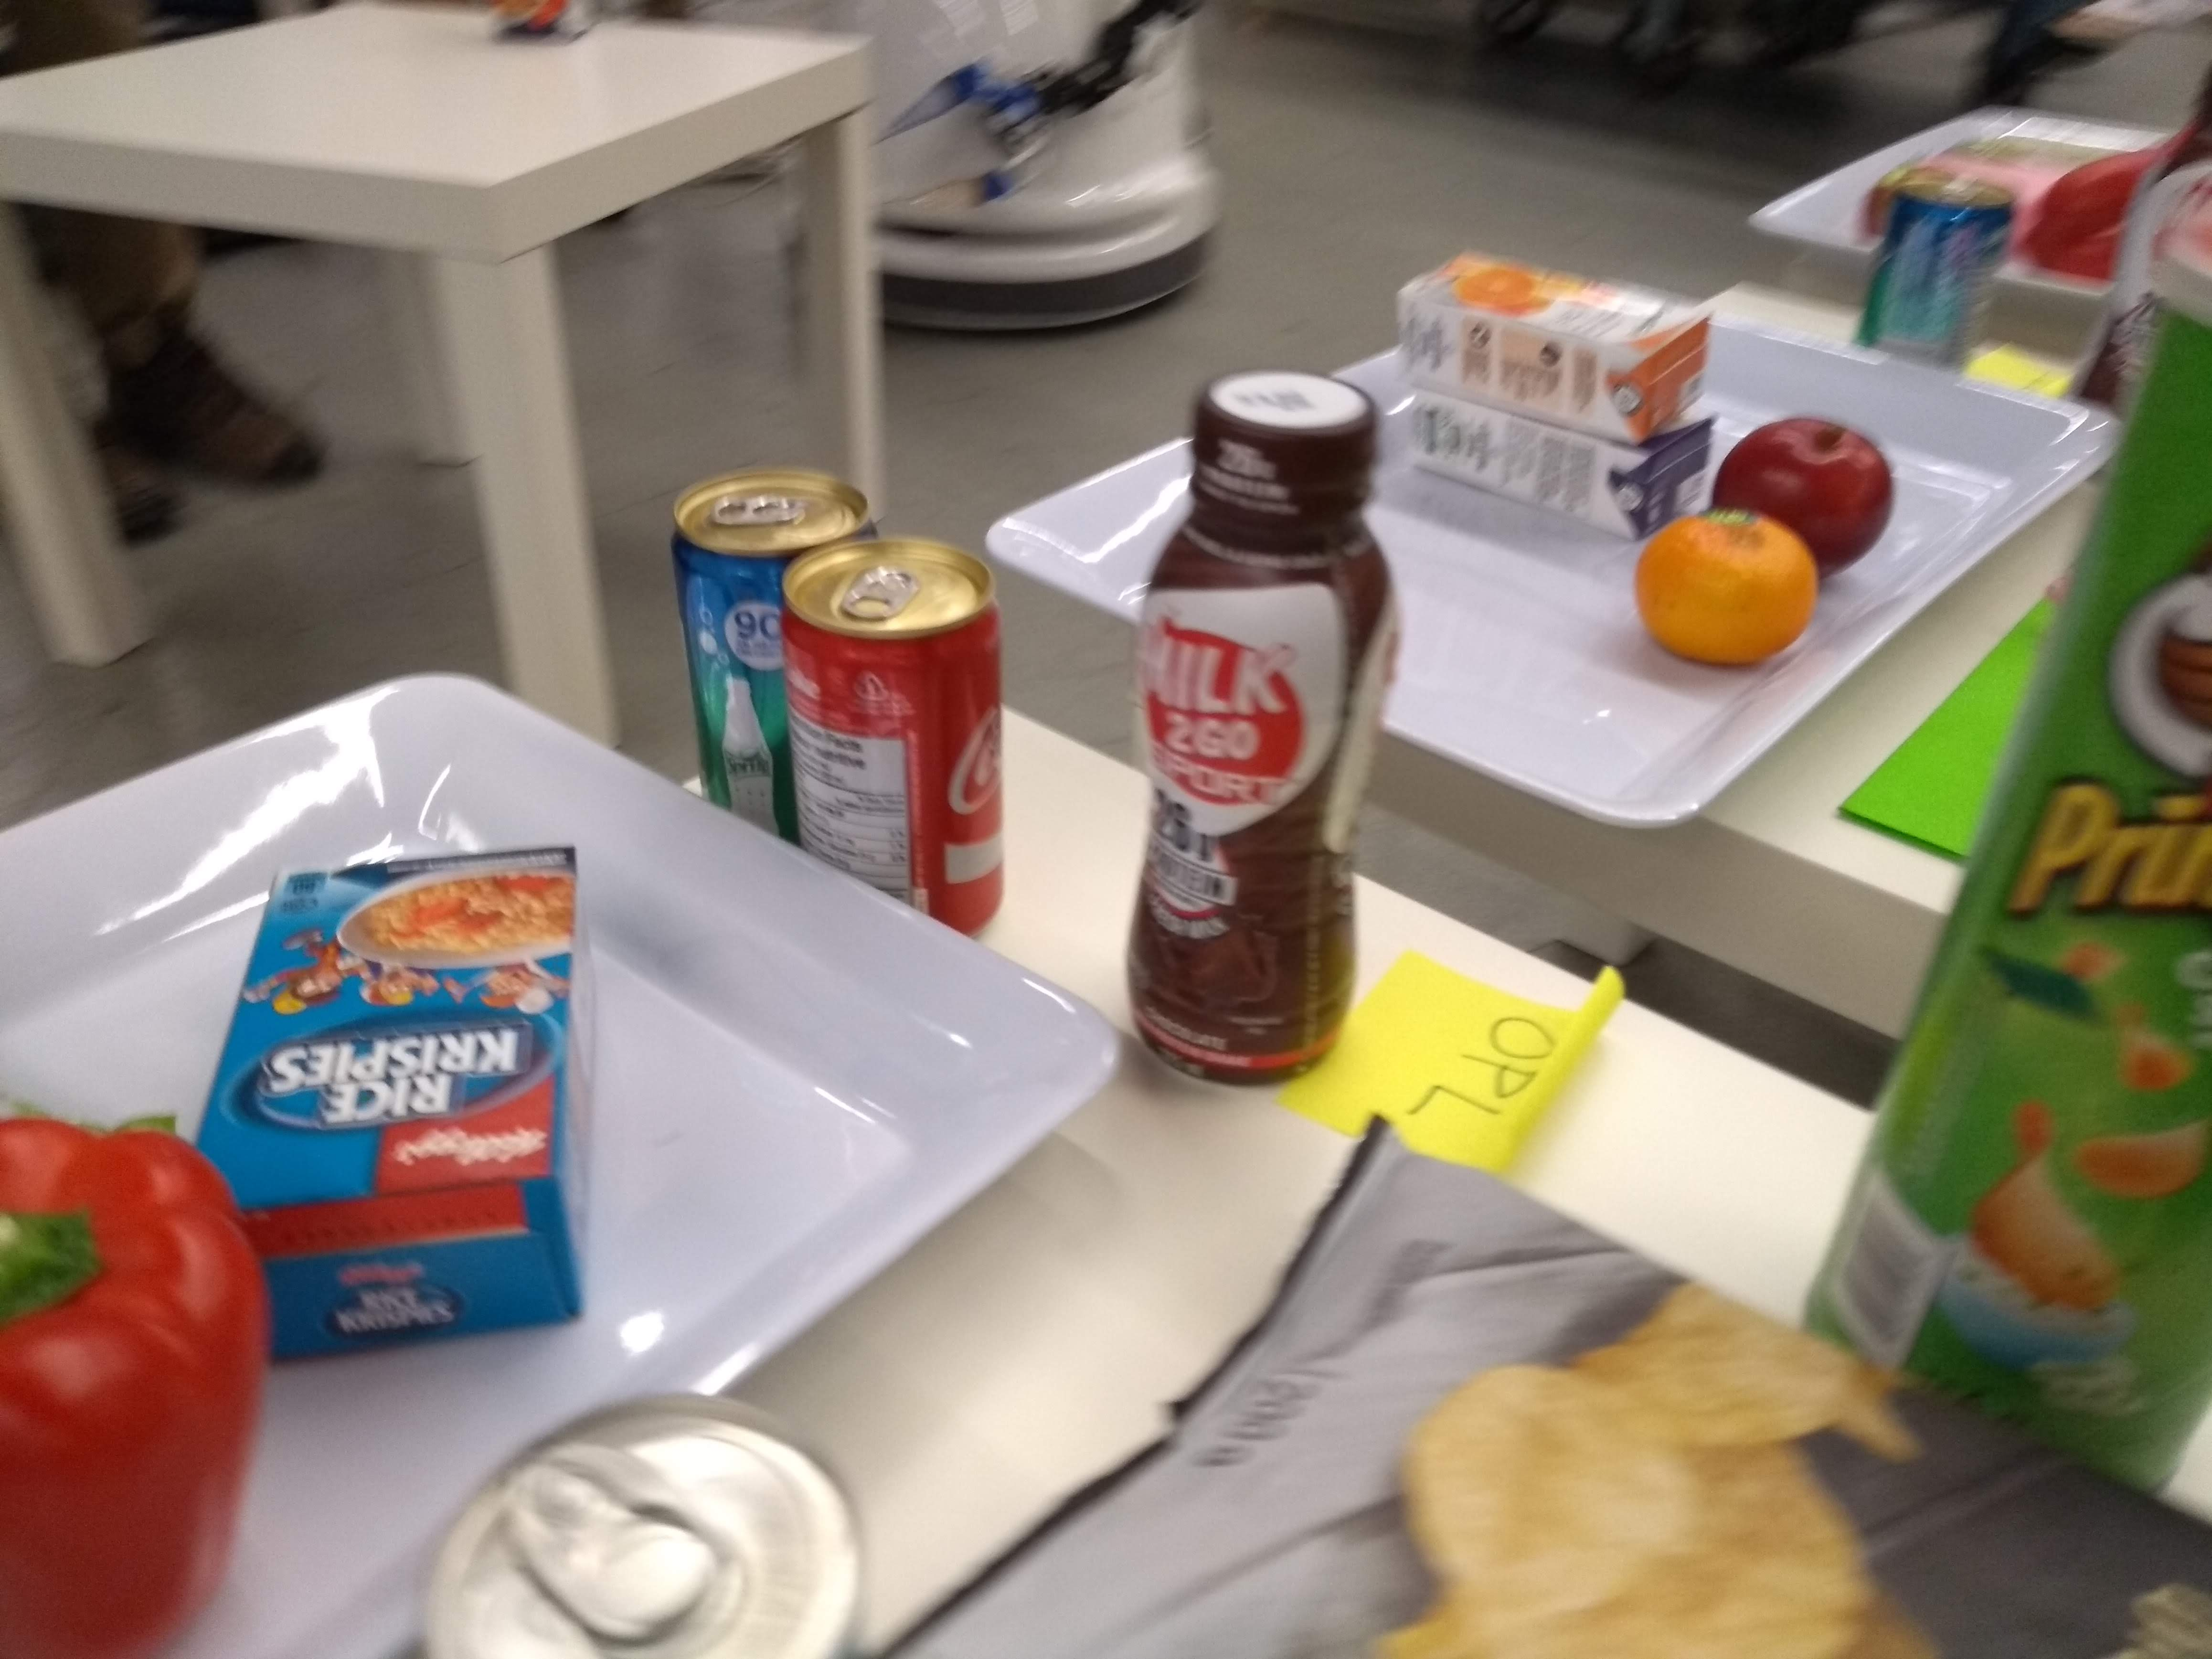apple: (1698, 404, 1905, 587)
cereal: (174, 831, 613, 1385)
chocolate_drink: (1104, 361, 1418, 1098)
coke: (770, 530, 1022, 964)
orange: (1627, 502, 1818, 681)
orange_juice: (1388, 242, 1723, 443)
sprite: (1848, 160, 2022, 385)
